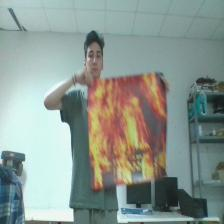fire-poster: (88, 73, 167, 190)
